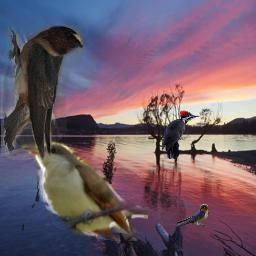Cuckoo: (18, 133, 148, 241)
Swallow: (1, 25, 83, 160), (169, 204, 210, 227)
Woodpecker: (160, 110, 201, 159)
